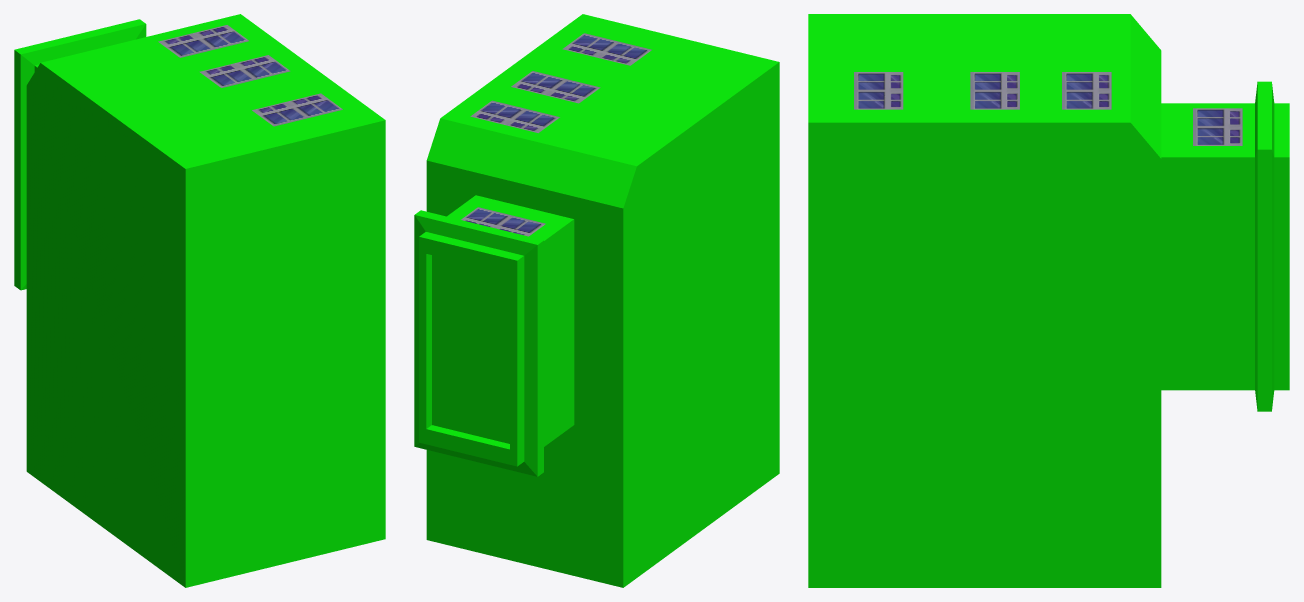
Rendered from Building_3s_01.FBX.
The picture shows the model from 3 angles, left to right: view 1: azimuth 30°, elevation 25°; view 2: azimuth 150°, elevation 25°; view 3: azimuth 270°, elevation 25°; orthographic projection. The views are drawn at different scales.
Visible parts, largest first — view 1: building_3s_01; view 2: building_3s_01; view 3: building_3s_01.
Boxes of the visible parts, left/top/right/bottom form: building_3s_01: left=14, top=14, right=385, bottom=587; building_3s_01: left=414, top=14, right=779, bottom=587; building_3s_01: left=808, top=14, right=1289, bottom=587.
Bounding box in the file's own units: 8 × 16.03 × 15.
